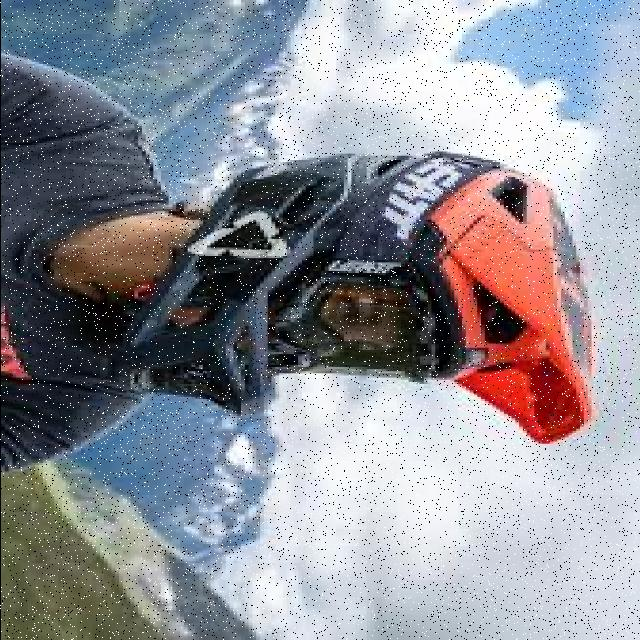Helmet: (128, 144, 606, 440)
